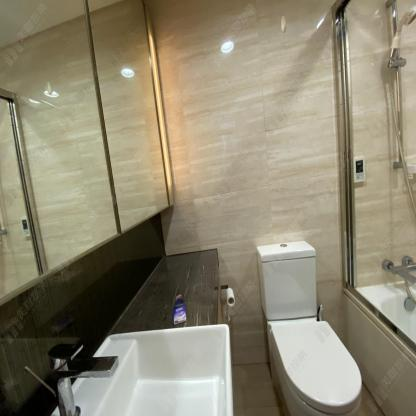Bathtub: (341, 279, 416, 416)
Faucet: (28, 339, 119, 414)
Toilet: (256, 239, 361, 416)
Toilet Sink: (52, 324, 233, 415)
